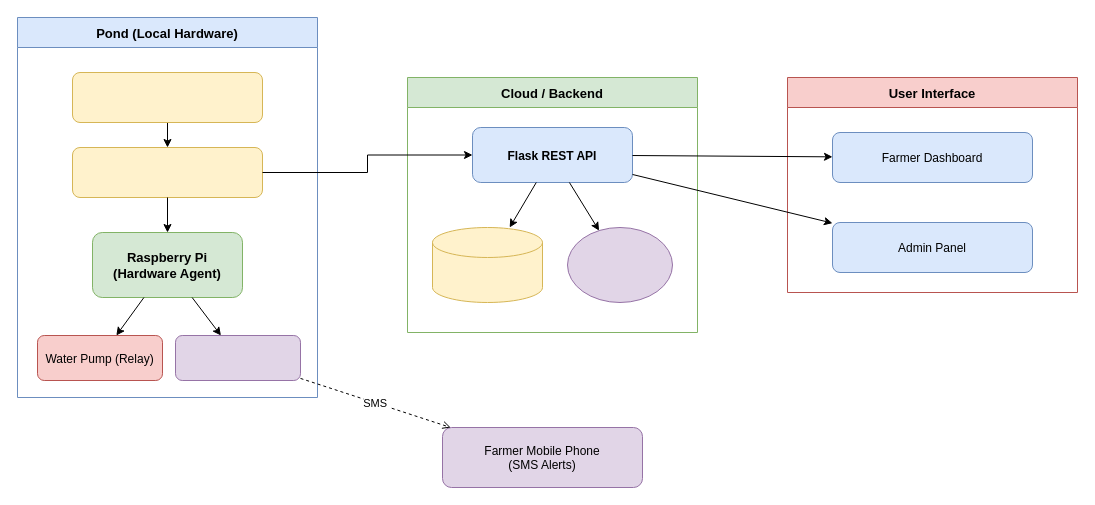
Some shapes in this 1095 by 505 pixel diagram are drawn without their labels. Each missing label, with the centre of its shape:
"7-in-1 RS485 Water Probe" goes at point (167, 97).
"DS18B20 Temperature Sensor" goes at point (167, 172).
"ML Inference Model" goes at point (619, 264).
"PostgreSQL Database" goes at point (487, 264).
"SIM800C GSM (UART)" goes at point (237, 357).
